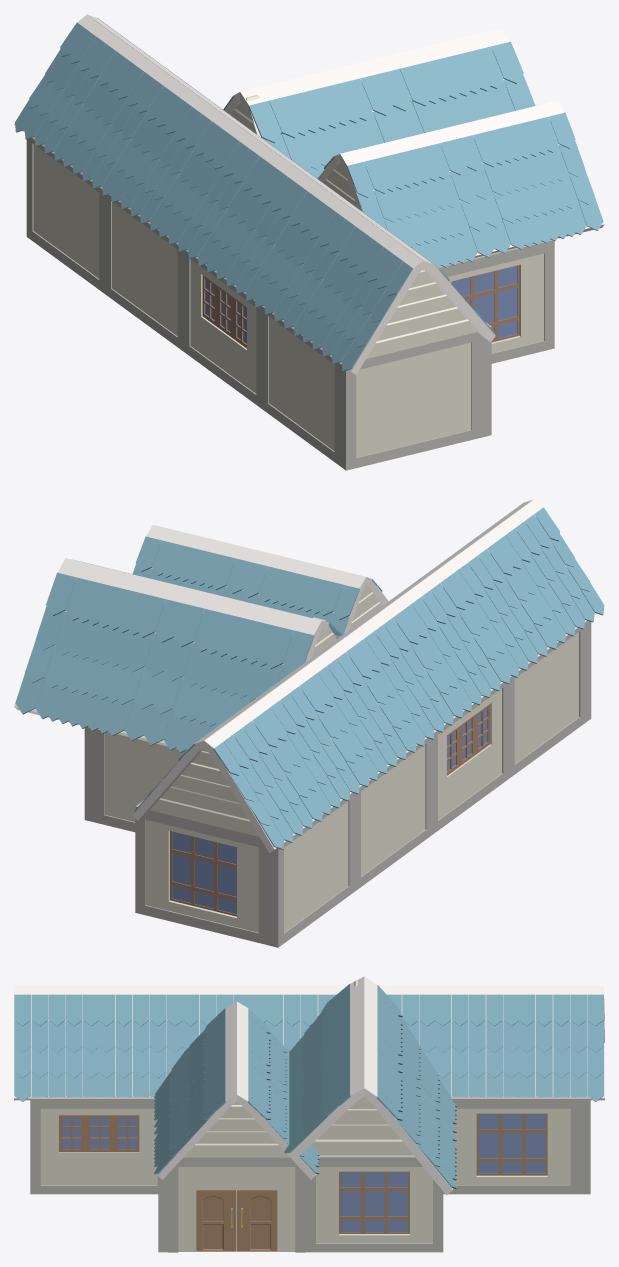
The model's file is House_02.fbx.
The picture shows the model from 3 angles, top to bottom: view 1: azimuth 30°, elevation 25°; view 2: azimuth 150°, elevation 25°; view 3: azimuth 270°, elevation 25°; orthographic projection. The views are drawn at different scales.
Parts seen in each view (by area): view 1: House_02; view 2: House_02; view 3: House_02.
Part boxes in pixels (x1=…): House_02: x1=14, y1=14, x2=604, y2=470; House_02: x1=14, y1=499, x2=604, y2=947; House_02: x1=14, y1=976, x2=604, y2=1252.
Bounding box in the file's own units: 1260 × 740 × 2065.
